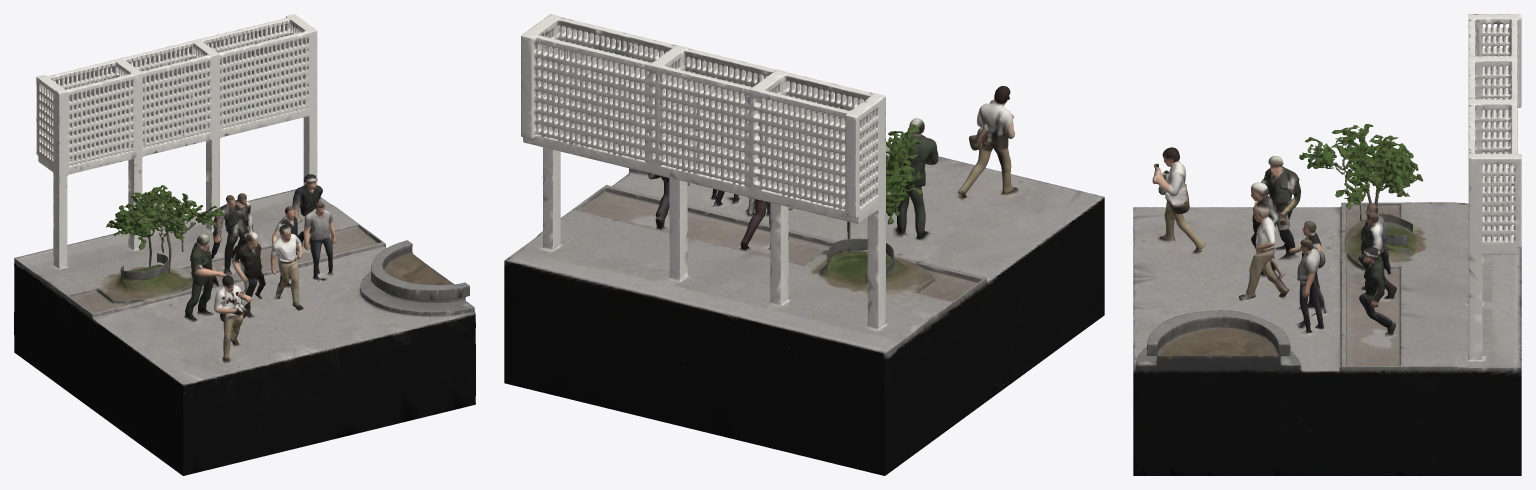
The model's file is danh_chiem_dai_su_my.glb.
3 renders of one model, left to right at view 1: azimuth 30°, elevation 25°; view 2: azimuth 150°, elevation 25°; view 3: azimuth 270°, elevation 25°, orthographic. The views are drawn at different scales.
Size of the model in its own units: 1.9 by 1.68 by 1.9.
1 material, 1 textured.
